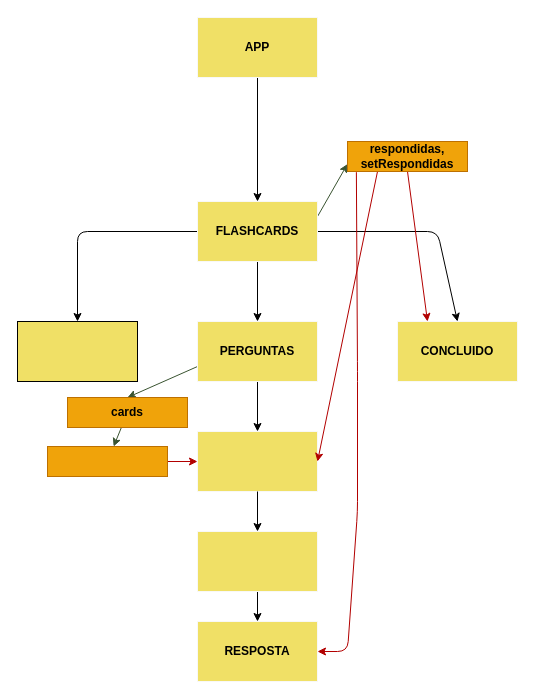
This 535x699 diagram has some shape labels left out. Here are the shapes that lost their labels. From the top down, the centre of each, then its label:
(77,351): LOGO
(107,461): card
(257,461): PERGUNTA
(257,561): RESPOSTAS
